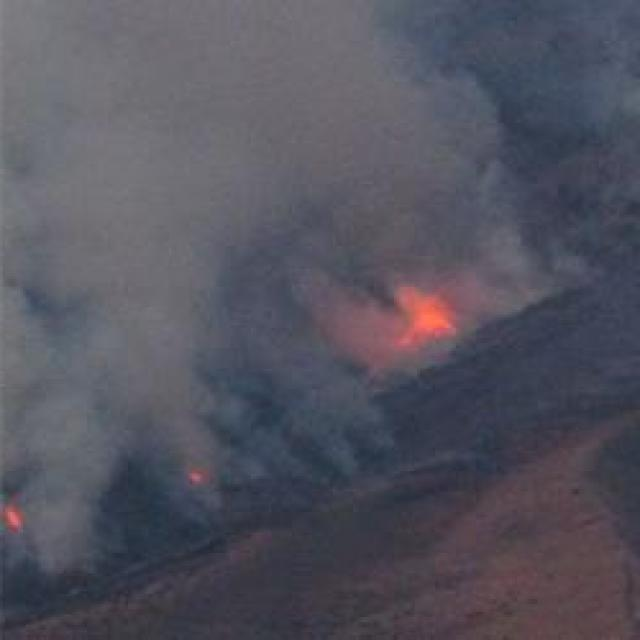smoke: (274, 74, 490, 248), (80, 297, 204, 490), (0, 336, 103, 567), (0, 142, 102, 364)
